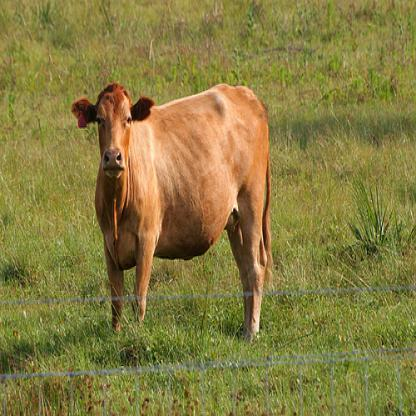cow: (69, 84, 276, 336)
